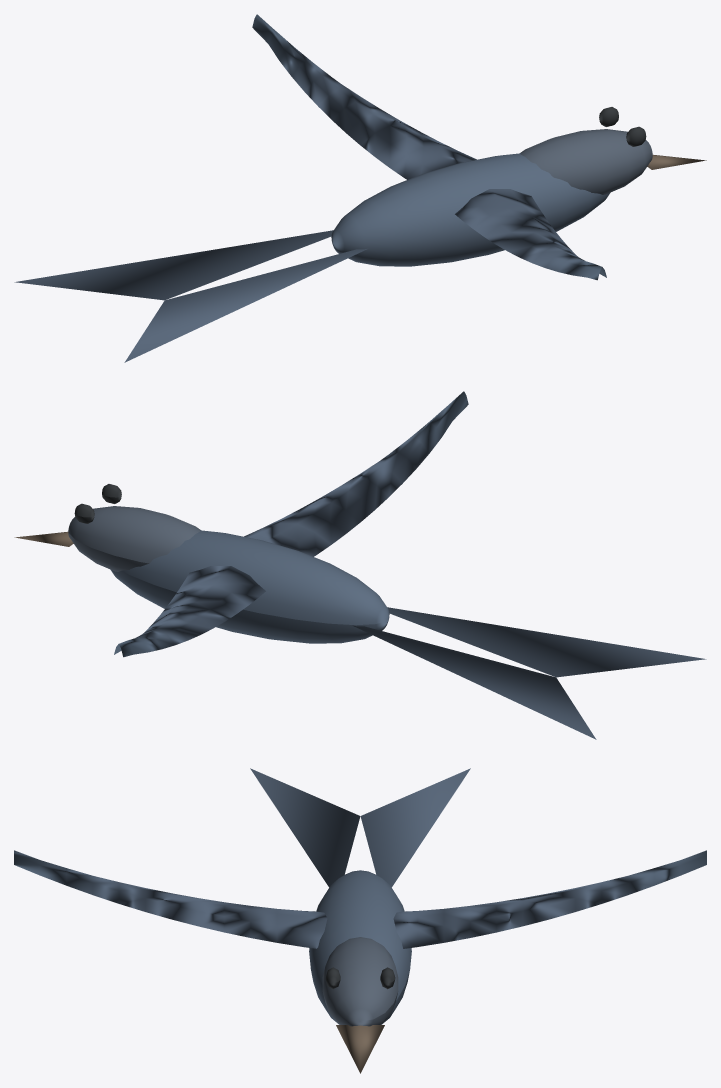
File: SM_DBA_Bird_Swallow.fbx
3 views of the same model, one above another, from view 1: azimuth 30°, elevation 25°; view 2: azimuth 150°, elevation 25°; view 3: azimuth 270°, elevation 25° (orthographic).
Parts seen in each view (by area): view 1: SM_DBA_Bird_Swallow; view 2: SM_DBA_Bird_Swallow; view 3: SM_DBA_Bird_Swallow.
Boxes of the visible parts, box(x1,y1,x2,y2) form: SM_DBA_Bird_Swallow: box(14, 14, 706, 362); SM_DBA_Bird_Swallow: box(14, 391, 706, 739); SM_DBA_Bird_Swallow: box(14, 768, 706, 1073).
Size of the model in its own units: 1.06 by 1.14 by 0.208.
